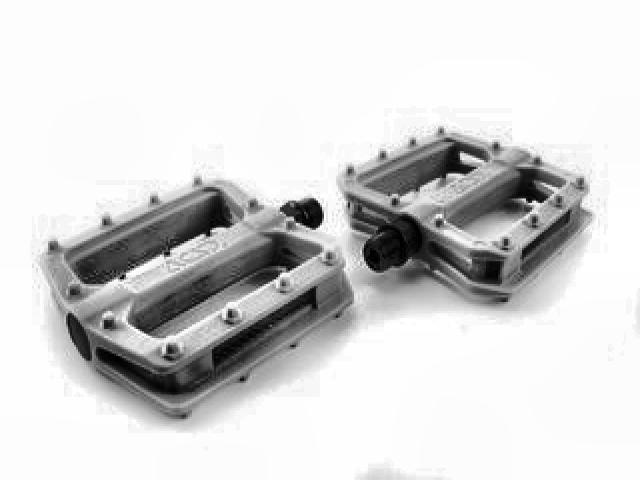pedal: (38, 174, 358, 422), (336, 124, 598, 310)
